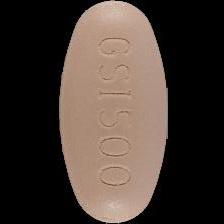55154-4428: (0, 0, 224, 224)
